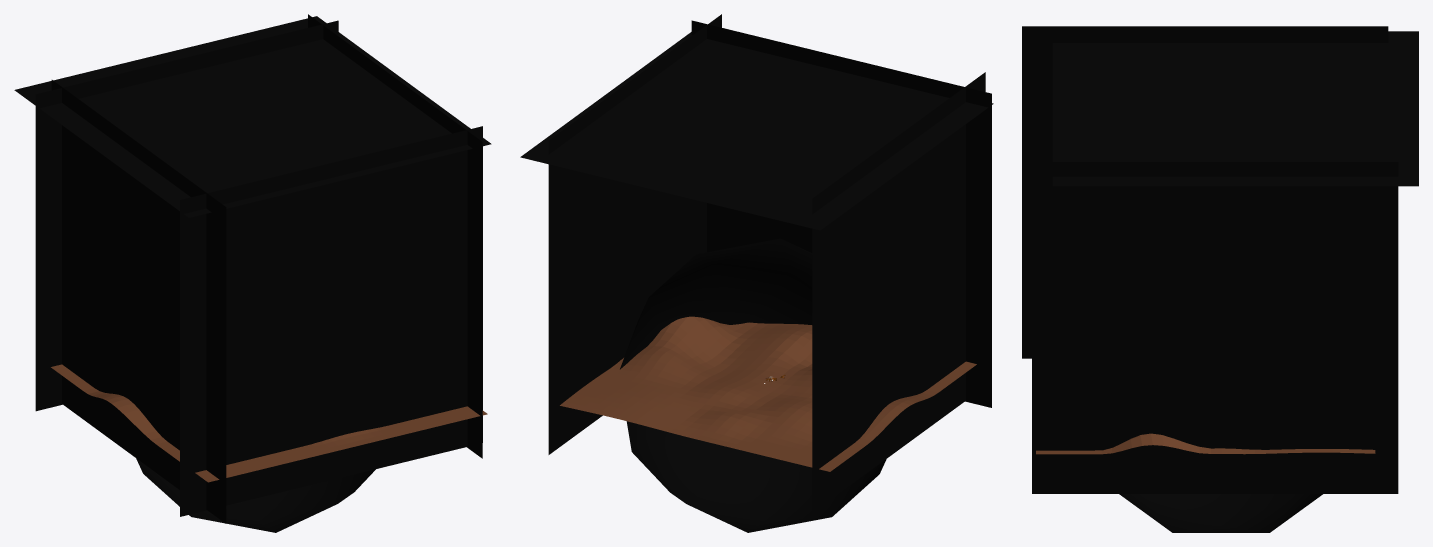
The model's file is feu.glb.
The picture shows the model from 3 angles, left to right: view 1: azimuth 30°, elevation 25°; view 2: azimuth 150°, elevation 25°; view 3: azimuth 270°, elevation 25°; orthographic projection. The views are drawn at different scales.
Visible parts, largest first — view 1: Plane, Plane.005, Plane.007, Plane.002, Plane.006, Plane.001, Icosphere; view 2: Plane.007, Plane.005, Plane.006, Plane.001, Icosphere, Plane; view 3: Plane.006, Plane.007, Plane.005, Icosphere, Plane.001.
Boxes of the visible parts, x1,y1,x2,y2 form: Plane: [180, 126, 482, 516]; Plane.005: [51, 80, 226, 523]; Plane.007: [14, 16, 491, 217]; Plane.002: [35, 20, 338, 411]; Plane.006: [308, 14, 482, 458]; Plane.001: [51, 364, 487, 482]; Icosphere: [136, 458, 375, 532]; Plane.007: [520, 32, 993, 230]; Plane.005: [812, 72, 985, 512]; Plane.006: [548, 14, 721, 454]; Plane.001: [560, 316, 976, 471]; Icosphere: [620, 238, 886, 532]; Plane: [691, 20, 991, 407]; Plane.006: [1032, 162, 1398, 493]; Plane.007: [1052, 31, 1418, 186]; Plane.005: [1022, 26, 1388, 358]; Icosphere: [1119, 494, 1322, 532]; Plane.001: [1036, 433, 1375, 454].
Size of the model in its own units: 694 by 896 by 743.
